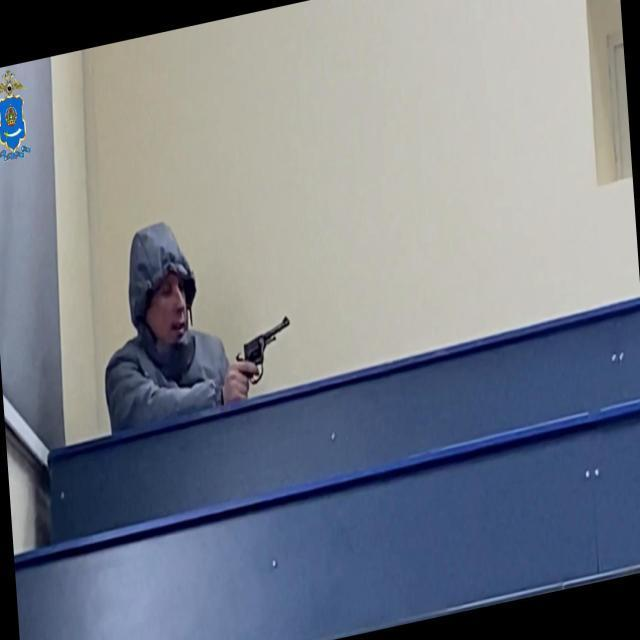pistol: (224, 306, 294, 402)
